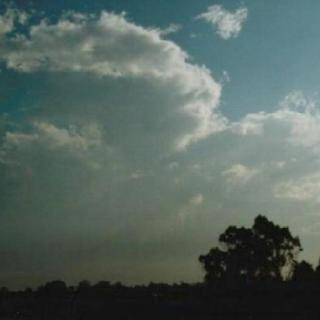Stratocumulus: (0, 0, 320, 242)
